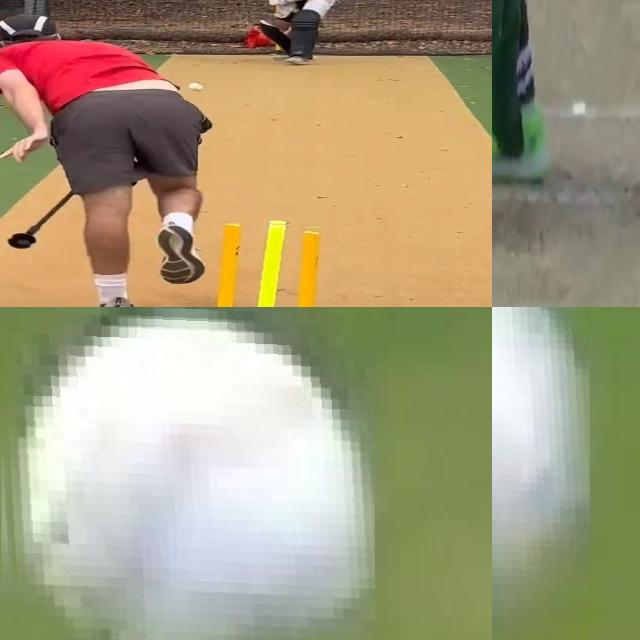Cricket ball: (0, 307, 375, 640), (492, 307, 590, 640), (186, 81, 205, 92)
Stumps: (205, 220, 342, 307)
